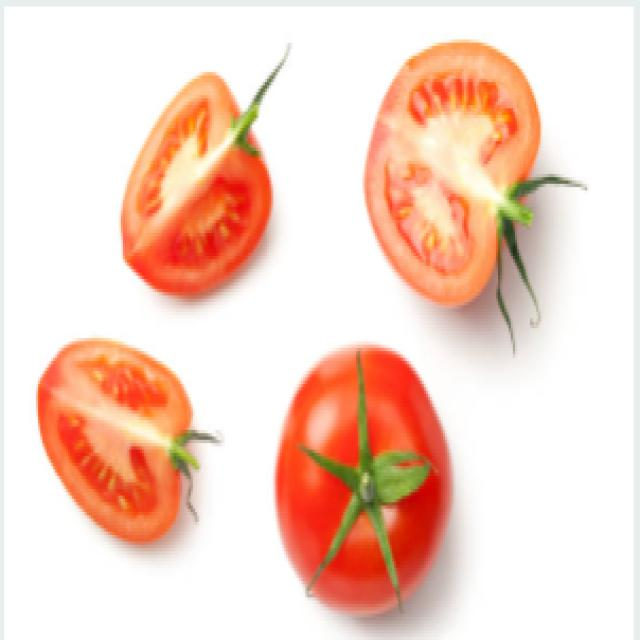Tomato: (355, 19, 605, 350), (257, 321, 469, 640), (109, 48, 322, 309), (24, 306, 226, 566)
